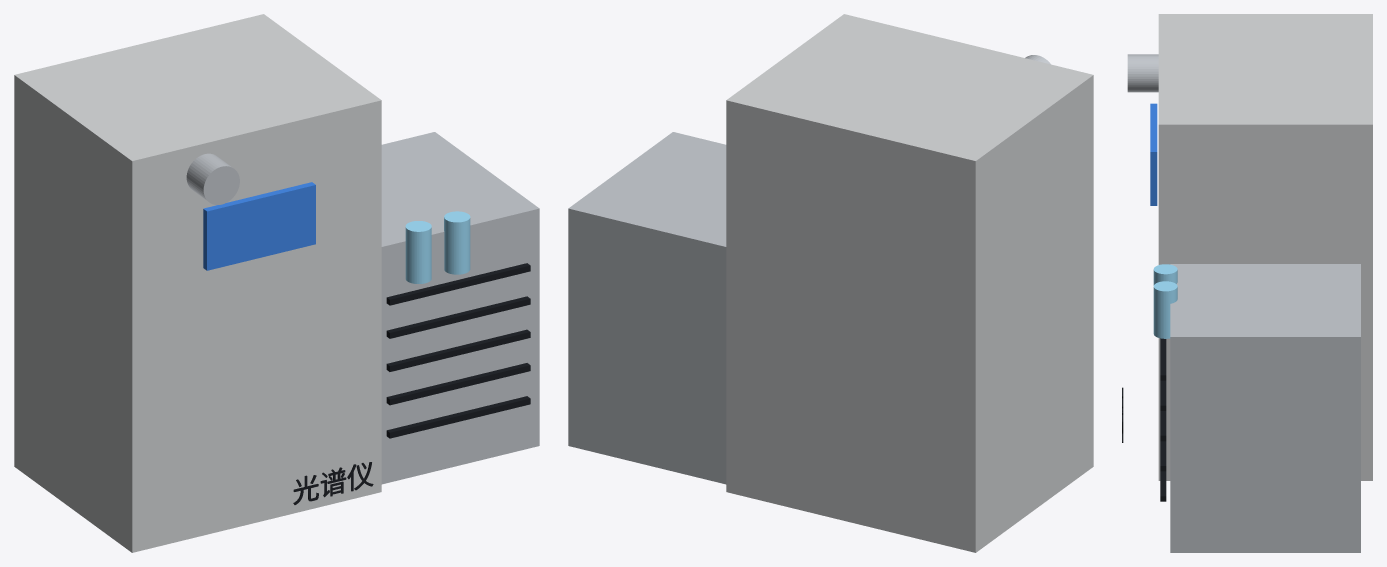
Rendered from asset_spectrometer.glb.
3 renders of one model, left to right at view 1: azimuth 30°, elevation 25°; view 2: azimuth 150°, elevation 25°; view 3: azimuth 270°, elevation 25°, orthographic. The views are drawn at different scales.
Visible parts, largest first — view 1: main_tower, module_side, front_screen, injector, sample_vial_2, sample_vial_1, module_line_0, module_line_1, module_line_2, module_line_3, module_line_4, asset_label; view 2: main_tower, module_side; view 3: main_tower, module_side, injector, sample_vial_2, front_screen, sample_vial_1.
Boxes of the visible parts, bbox=[...] form: main_tower: bbox=[14, 14, 381, 552]; module_side: bbox=[381, 132, 539, 484]; front_screen: bbox=[203, 182, 315, 270]; injector: bbox=[186, 153, 239, 204]; sample_vial_2: bbox=[444, 211, 470, 274]; sample_vial_1: bbox=[405, 221, 431, 283]; module_line_0: bbox=[386, 396, 530, 438]; module_line_1: bbox=[386, 363, 530, 405]; module_line_2: bbox=[386, 329, 530, 371]; module_line_3: bbox=[386, 296, 530, 338]; module_line_4: bbox=[386, 263, 530, 305]; asset_label: bbox=[293, 462, 373, 504]; main_tower: bbox=[726, 14, 1093, 552]; module_side: bbox=[568, 132, 726, 484]; main_tower: bbox=[1158, 14, 1372, 480]; module_side: bbox=[1170, 264, 1360, 552]; injector: bbox=[1127, 54, 1158, 92]; sample_vial_2: bbox=[1153, 281, 1177, 338]; front_screen: bbox=[1150, 103, 1157, 205]; sample_vial_1: bbox=[1153, 264, 1177, 285].
Bounding box in the file's own units: 1.82 × 1.65 × 1.05.
